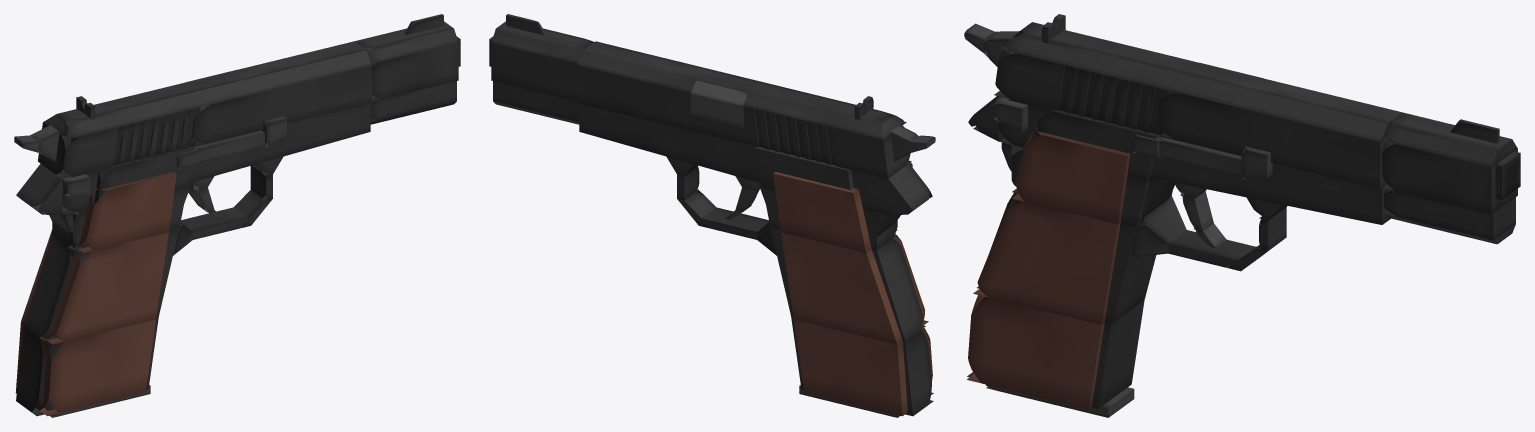
Rendered from browninghp.obj.
The picture shows the model from 3 angles, left to right: view 1: azimuth 30°, elevation 25°; view 2: azimuth 150°, elevation 25°; view 3: azimuth 330°, elevation 25°; orthographic projection. The views are drawn at different scales.
Visible parts, largest first — view 1: gunModel10, slideModel1, gunModel9, slideModel0, gunModel11, gunModel0, slideModel3, gunModel3, slideModel6, slideModel2, gunModel14, gunModel4 (+15 smaller); view 2: gunModel10, slideModel1, gunModel9, gunModel0, slideModel0, gunModel11, slideModel3, gunModel3, slideModel6, gunModel14, slideModel2, gunModel4 (+14 smaller); view 3: slideModel1, gunModel10, gunModel9, slideModel0, gunModel11, gunModel0, slideModel3, slideModel2, slideModel4, gunModel14, gunModel15, slideModel6 (+20 smaller).
Part boxes in pixels (left/top/right/bottom): gunModel10: left=21, top=230, right=168, bottom=344; slideModel1: left=43, top=41, right=371, bottom=139; gunModel9: left=15, top=319, right=155, bottom=416; slideModel0: left=191, top=65, right=371, bottom=146; gunModel11: left=52, top=172, right=176, bottom=252; gunModel0: left=188, top=103, right=370, bottom=183; slideModel3: left=364, top=42, right=458, bottom=101; gunModel3: left=24, top=235, right=93, bottom=341; slideModel6: left=38, top=119, right=118, bottom=178; slideModel2: left=354, top=21, right=458, bottom=63; gunModel14: left=94, top=146, right=194, bottom=203; gunModel4: left=16, top=326, right=64, bottom=416; gunModel10: left=781, top=232, right=928, bottom=344; slideModel1: left=578, top=41, right=906, bottom=139; gunModel9: left=794, top=319, right=933, bottom=416; gunModel0: left=579, top=103, right=761, bottom=183; slideModel0: left=578, top=65, right=759, bottom=147; gunModel11: left=773, top=172, right=897, bottom=252; slideModel3: left=491, top=42, right=577, bottom=101; gunModel3: left=872, top=239, right=925, bottom=341; slideModel6: left=831, top=125, right=911, bottom=178; gunModel14: left=755, top=147, right=853, bottom=190; slideModel2: left=491, top=21, right=594, bottom=63; gunModel4: left=902, top=330, right=933, bottom=416; slideModel1: left=1000, top=22, right=1402, bottom=142; gunModel10: left=973, top=199, right=1120, bottom=324; gunModel9: left=966, top=295, right=1104, bottom=409; slideModel0: left=1156, top=93, right=1387, bottom=189; gunModel11: left=1012, top=127, right=1130, bottom=224; gunModel0: left=1150, top=133, right=1390, bottom=224; slideModel3: left=1382, top=142, right=1517, bottom=214; slideModel2: left=1382, top=112, right=1517, bottom=167; slideModel4: left=1384, top=189, right=1515, bottom=240; gunModel14: left=1036, top=109, right=1159, bottom=181; gunModel15: left=1092, top=300, right=1144, bottom=408; slideModel6: left=994, top=32, right=1065, bottom=110.
Bounding box in the file's own units: 8.4 × 5.5 × 1.06.
